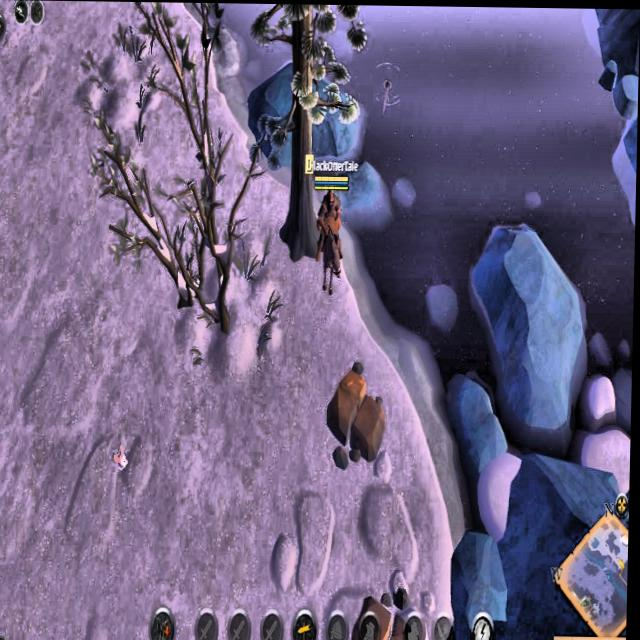limestone: (325, 365, 390, 466), (356, 591, 428, 640)
